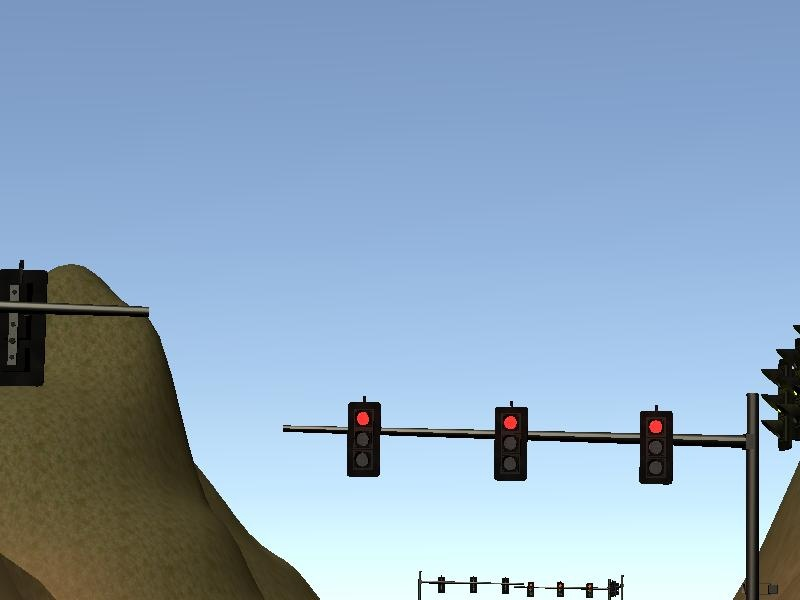red: (633, 403, 680, 499), (490, 400, 533, 491), (343, 394, 387, 481)
